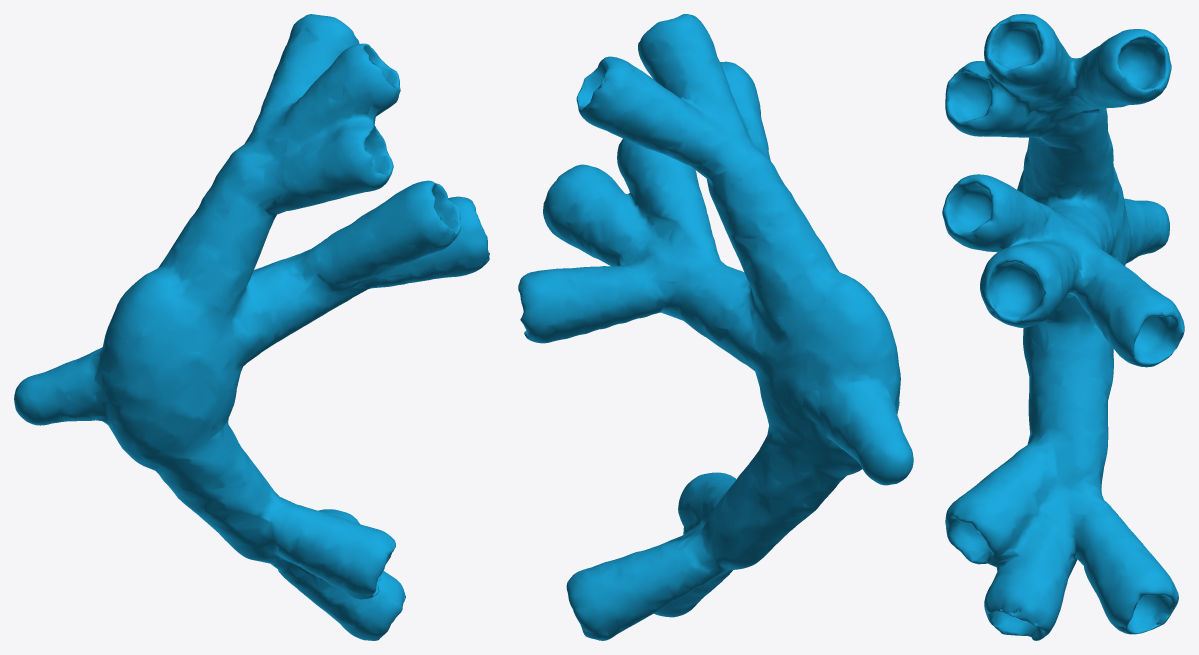
File: CollectingSystemCollision_Inward.obj
3 renders of one model, left to right at view 1: azimuth 30°, elevation 25°; view 2: azimuth 150°, elevation 25°; view 3: azimuth 270°, elevation 25°, orthographic. The views are drawn at different scales.
Parts seen in each view (by area): view 1: CollectingSystemCollision_Inward; view 2: CollectingSystemCollision_Inward; view 3: CollectingSystemCollision_Inward.
Part boxes in pixels (x1=…): CollectingSystemCollision_Inward: x1=14, y1=14, x2=489, y2=640; CollectingSystemCollision_Inward: x1=518, y1=14, x2=913, y2=640; CollectingSystemCollision_Inward: x1=942, y1=14, x2=1184, y2=640.
Bounding box in the file's own units: 8 × 10.99 × 3.92.
